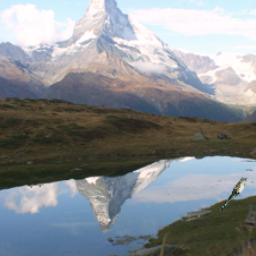Cuckoo: (219, 177, 248, 211)
